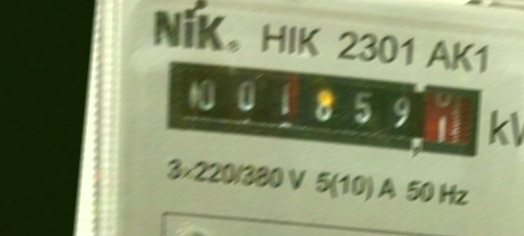0: (195, 74, 218, 111), (235, 76, 257, 111)
1: (279, 78, 293, 115), (434, 111, 449, 142)
5: (351, 87, 375, 124)
8: (313, 85, 336, 121)
9: (390, 92, 412, 128)
screen: (152, 46, 494, 167)
